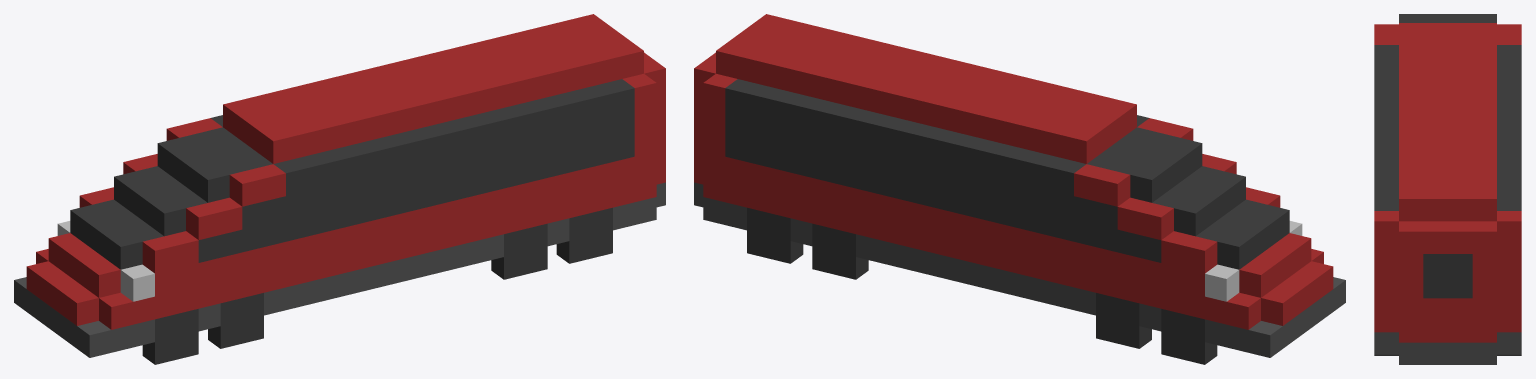
The model's file is train-v1-red.gltf.
3 views of the same model, side by side, from view 1: azimuth 30°, elevation 25°; view 2: azimuth 150°, elevation 25°; view 3: azimuth 270°, elevation 25° (orthographic). The views are drawn at different scales.
Visible parts, largest first — view 1: model, wheels; view 2: model, wheels; view 3: model.
Part boxes in pixels (left/top/right/bottom): model: left=14, top=14, right=665, bottom=357; wheels: left=142, top=207, right=612, bottom=364; model: left=694, top=14, right=1345, bottom=357; wheels: left=747, top=207, right=1217, bottom=364; model: left=1374, top=14, right=1521, bottom=364.
Size of the model in its own units: 2.7 by 0.8 by 0.6.
2 materials, 2 textured.
